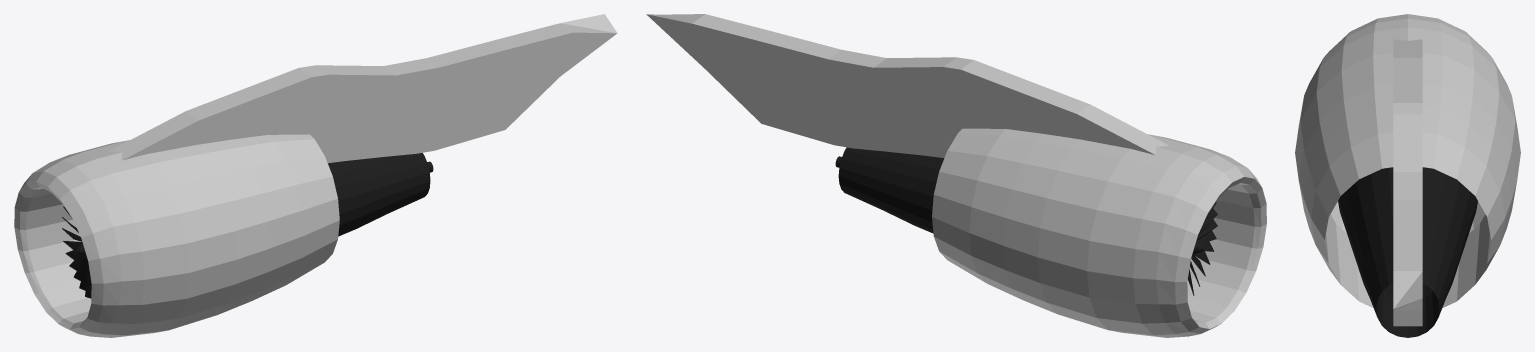
File: cfm56-5b.glb
3 views of the same model, side by side, from view 1: azimuth 30°, elevation 25°; view 2: azimuth 150°, elevation 25°; view 3: azimuth 270°, elevation 25° (orthographic). The views are drawn at different scales.
Visible parts, largest first — view 1: New_Game_Object (×3); view 2: New_Game_Object (×3); view 3: New_Game_Object (×3).
Part boxes in pixels (x1,y1,x2,y2): New_Game_Object (×3): (14,14,617,337); New_Game_Object (×3): (646,14,1266,337); New_Game_Object (×3): (1295,14,1520,337).
Bounding box in the file's own units: 1.34 × 0.4861 × 0.4068.
36 materials, 35 textured.
